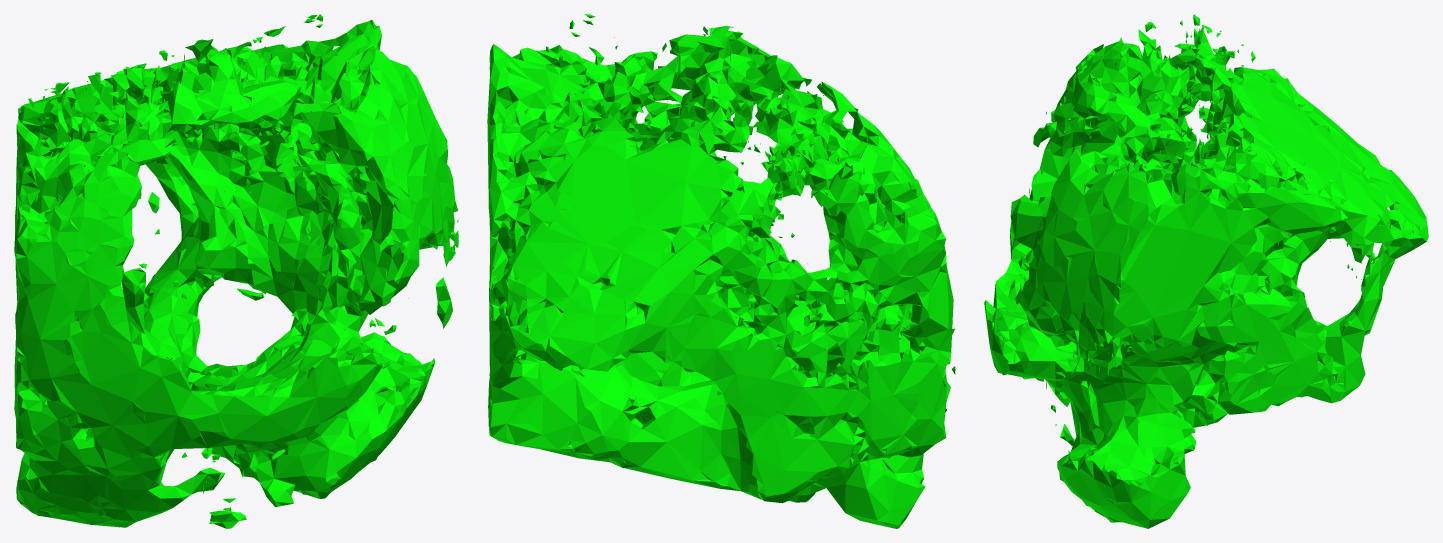
Rendered from B939XXXX-1_base_16.obj.
3 views of the same model, side by side, from view 1: azimuth 30°, elevation 25°; view 2: azimuth 150°, elevation 25°; view 3: azimuth 270°, elevation 25° (orthographic). The views are drawn at different scales.
Parts seen in each view (by area): view 1: 16_base; view 2: 16_base; view 3: 16_base.
Boxes of the visible parts, box(x1,y1,x2,y2) form: 16_base: box(14, 14, 458, 528); 16_base: box(487, 14, 955, 528); 16_base: box(984, 14, 1428, 528).
Size of the model in its own units: 218 by 219 by 204.
